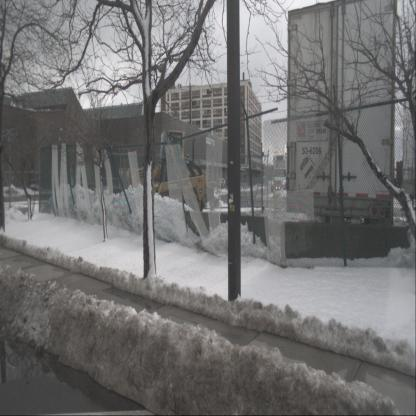vehicle-car: (271, 167, 288, 195)
vehicle-truck: (285, 0, 397, 249)
